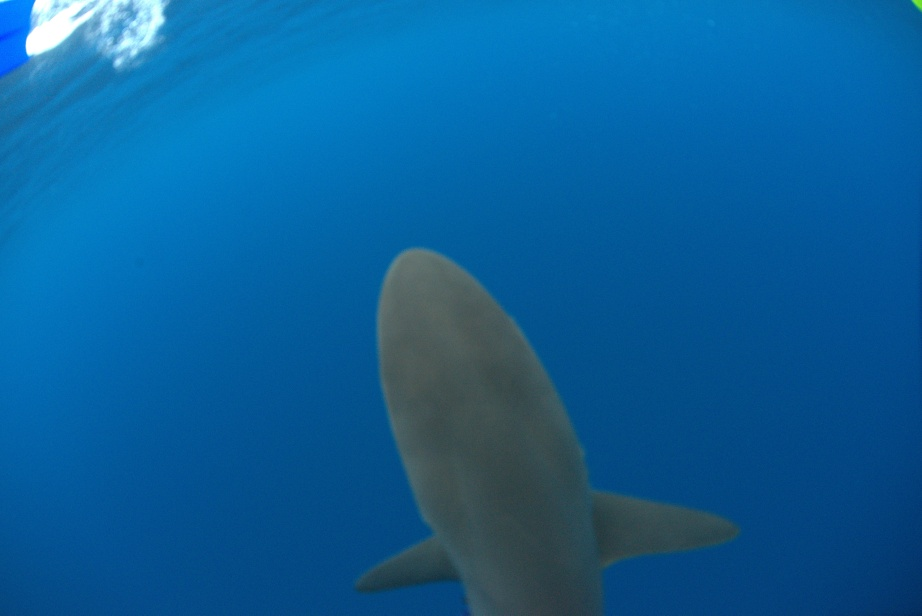Sedoso: (276, 209, 749, 616)
